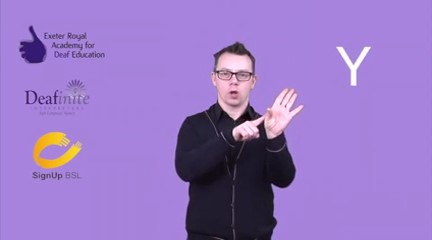Y: (233, 83, 309, 147)
